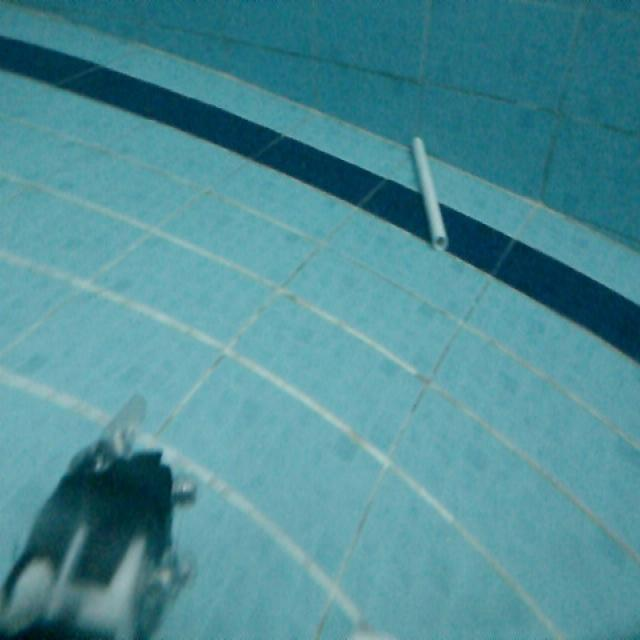Cube: (408, 131, 452, 253)
